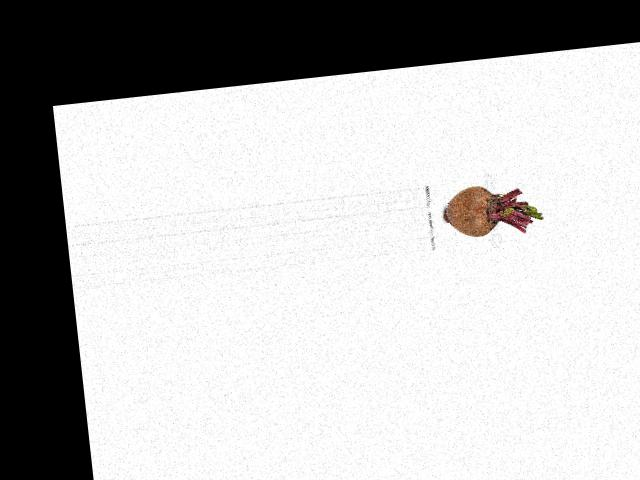beet: (441, 178, 544, 241)
